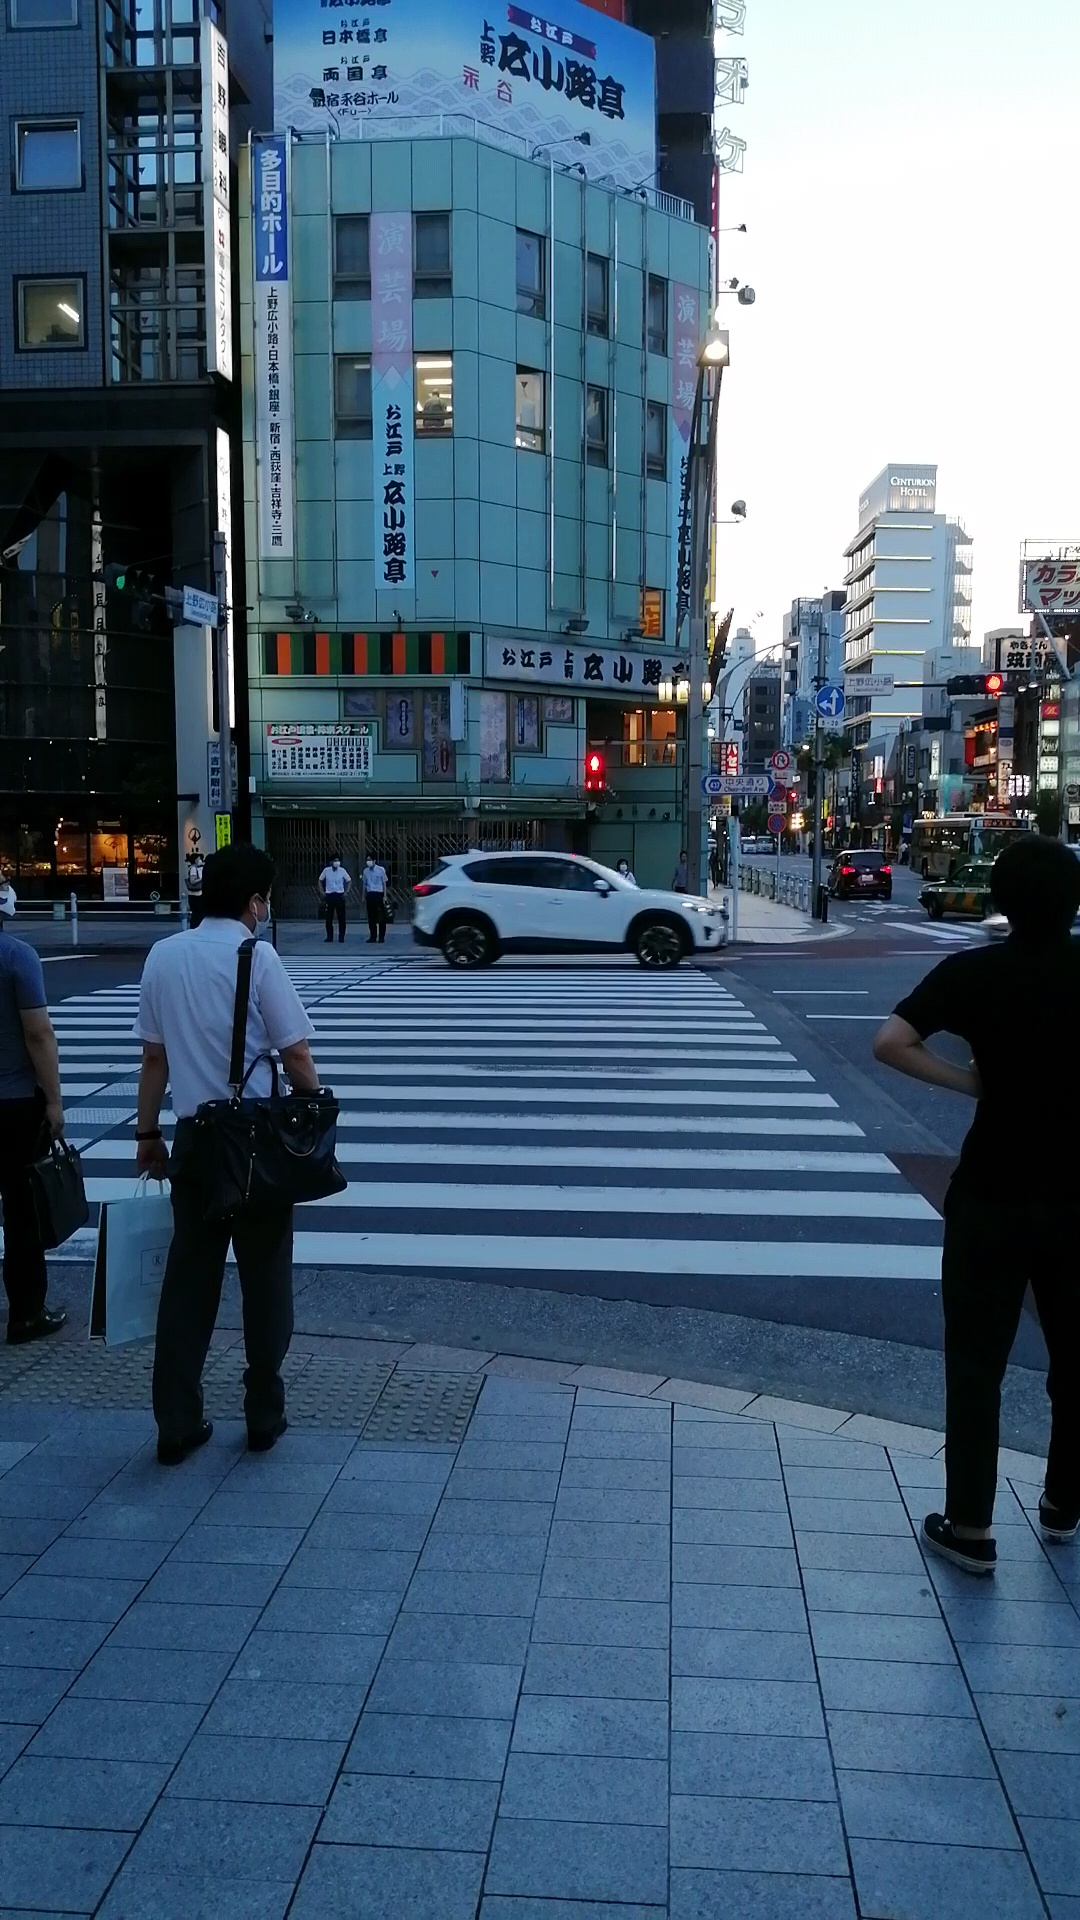red: (585, 753, 605, 793)
